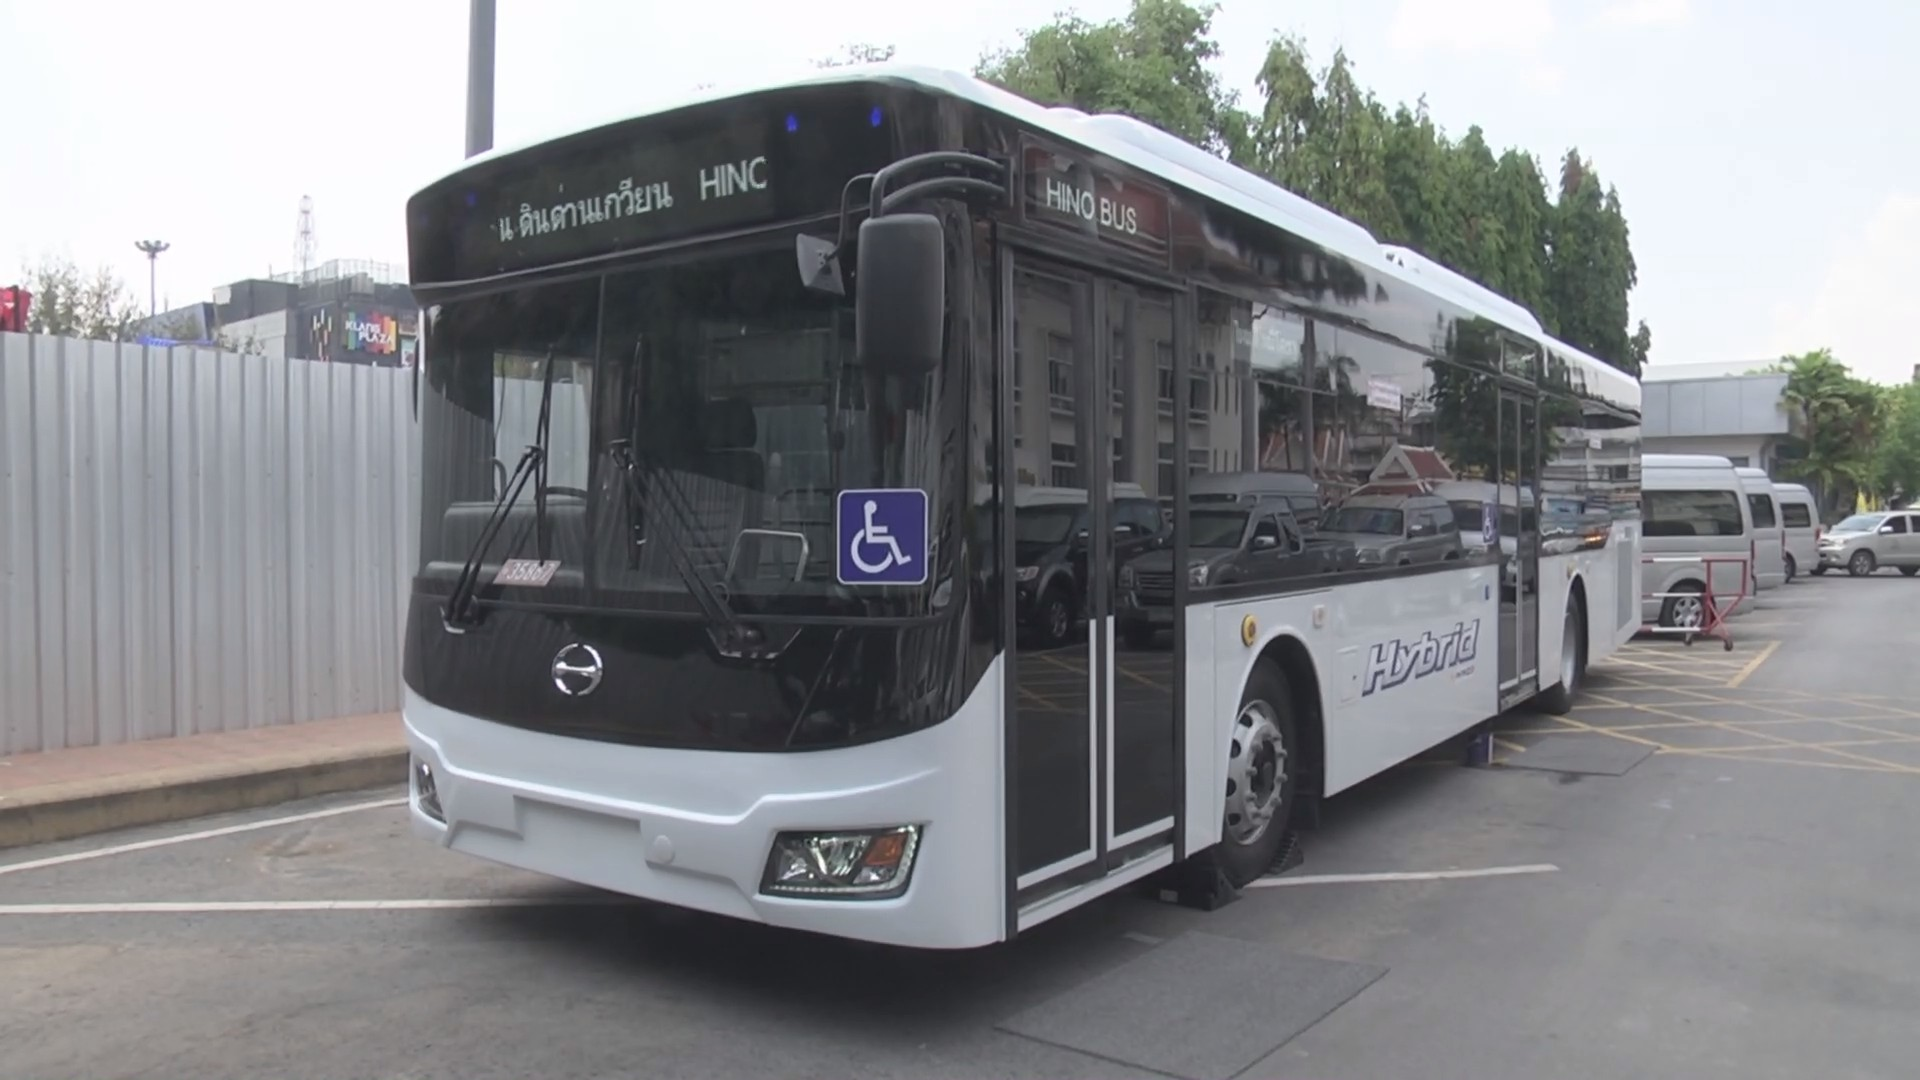bus: (400, 65, 1644, 957)
